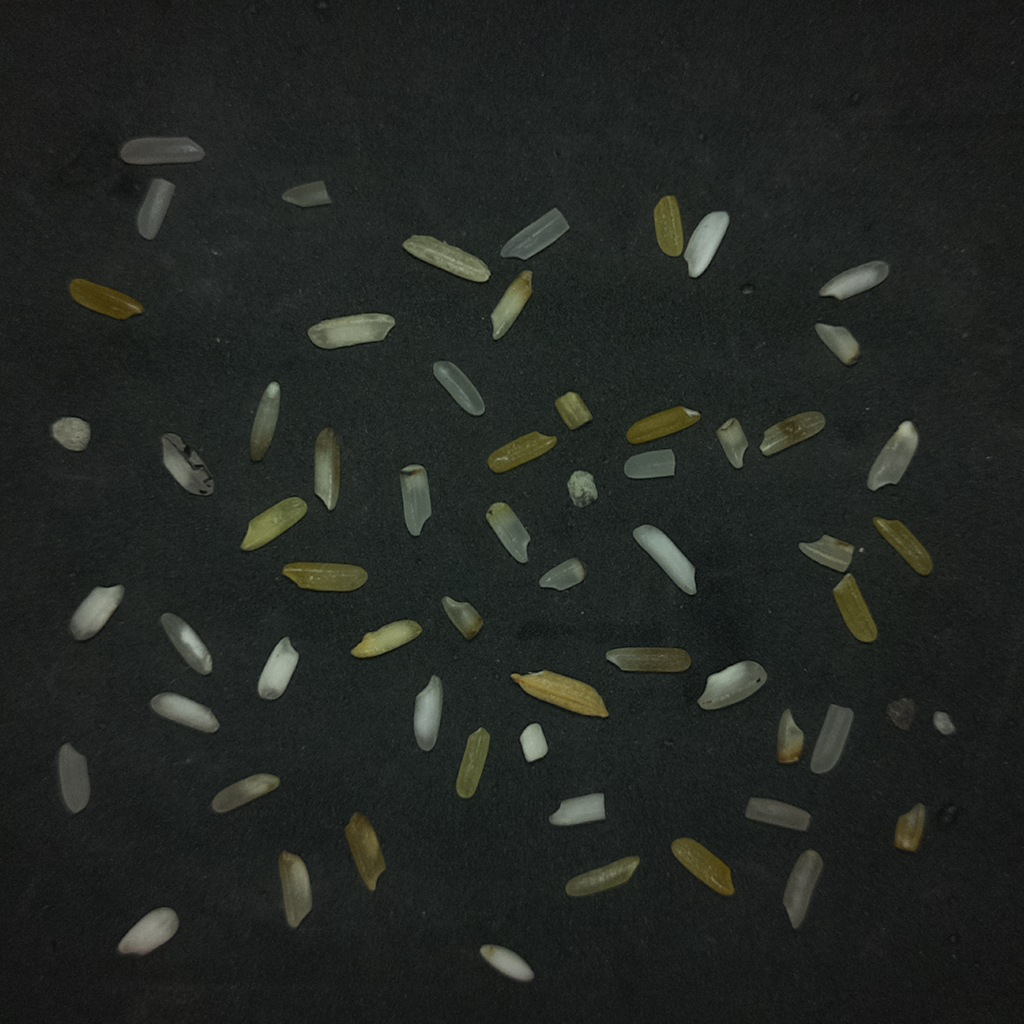broken: (798, 534, 853, 571), (282, 180, 331, 207)
chalky: (633, 524, 696, 594), (698, 660, 766, 709), (307, 312, 394, 349), (160, 613, 212, 674), (69, 585, 124, 641), (683, 211, 729, 277), (117, 907, 177, 955), (150, 692, 219, 733), (819, 261, 888, 299), (257, 636, 298, 699), (413, 675, 442, 751), (480, 944, 534, 982), (549, 792, 605, 825), (520, 722, 548, 762)
damaged: (403, 235, 489, 282), (867, 420, 918, 490), (345, 812, 386, 892), (161, 433, 213, 495), (491, 270, 533, 340), (760, 411, 824, 455), (278, 851, 311, 928), (400, 464, 431, 536), (815, 323, 859, 365), (442, 596, 483, 639), (716, 417, 748, 468), (777, 708, 802, 763)
discolored: (671, 838, 734, 895), (241, 496, 307, 550), (873, 518, 933, 575), (833, 573, 877, 642), (565, 855, 639, 896), (69, 279, 142, 319), (487, 431, 556, 473), (626, 406, 700, 444), (351, 619, 421, 658), (486, 502, 530, 563), (211, 773, 279, 812), (282, 562, 367, 592), (250, 381, 280, 461), (456, 727, 489, 798), (314, 427, 340, 510), (606, 647, 691, 672), (653, 195, 683, 256), (624, 449, 676, 480), (894, 803, 925, 851), (539, 558, 585, 590), (555, 392, 592, 429)
foreign: (50, 416, 90, 451), (567, 470, 597, 507), (887, 698, 914, 729), (932, 711, 955, 735)
paddy: (511, 670, 608, 717)
whole: (500, 208, 569, 260), (783, 849, 822, 928), (810, 704, 853, 773), (433, 360, 484, 415), (119, 137, 204, 165), (136, 178, 174, 239), (57, 743, 90, 813), (745, 797, 810, 830)
